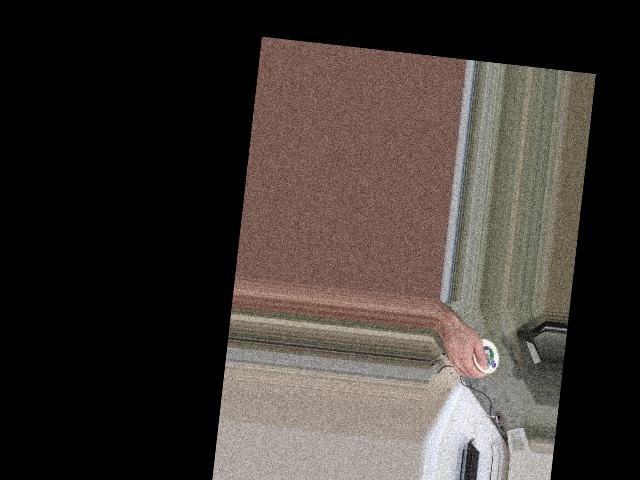cotage: (467, 337, 501, 374)
